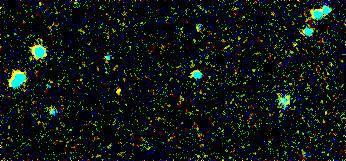star: (105, 73, 135, 103)
